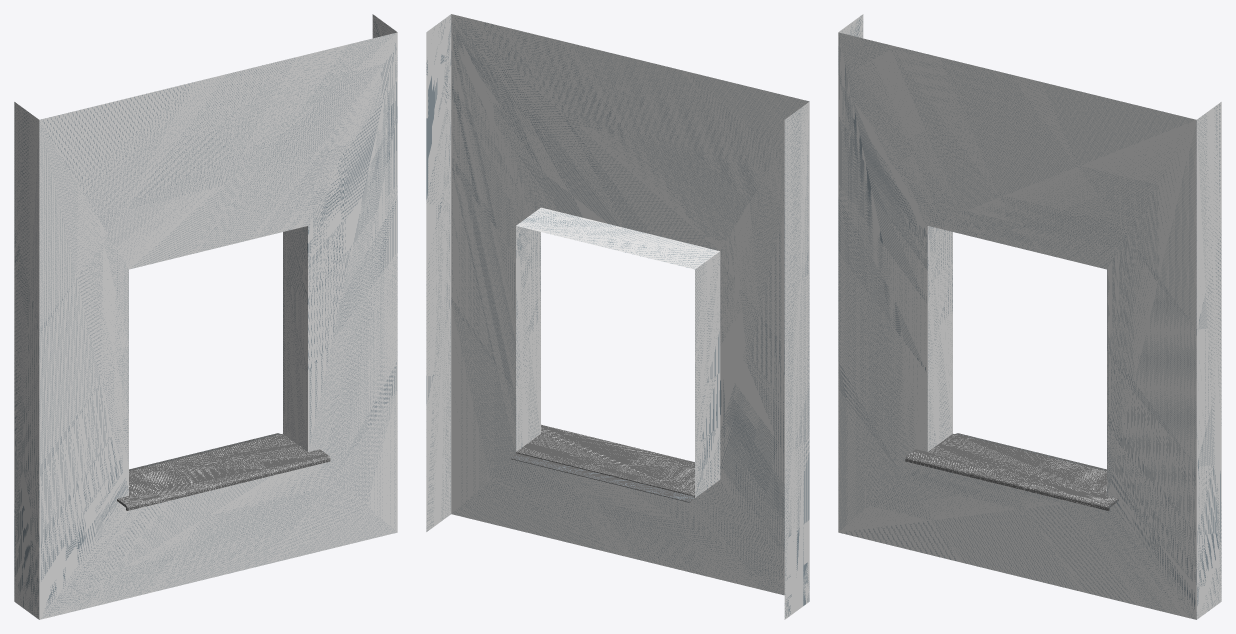
Rendered from WindowBlock_os_[300x400]_150x181x[080].dae.
3 renders of one model, left to right at view 1: azimuth 30°, elevation 25°; view 2: azimuth 150°, elevation 25°; view 3: azimuth 330°, elevation 25°, orthographic.
Visible parts, largest first — view 1: group_1 (×2), group_2; view 2: group_1 (×2), group_2 (×2); view 3: group_1 (×2), group_2.
Part boxes in pixels (x1,y1,x2,y2): group_1 (×2): (14, 14, 397, 619); group_2: (117, 434, 330, 510); group_1 (×2): (426, 14, 809, 619); group_2 (×2): (511, 424, 694, 502); group_1 (×2): (838, 14, 1221, 619); group_2: (905, 434, 1118, 510).
Bounding box in the file's own units: 118 × 23.03 × 157.
